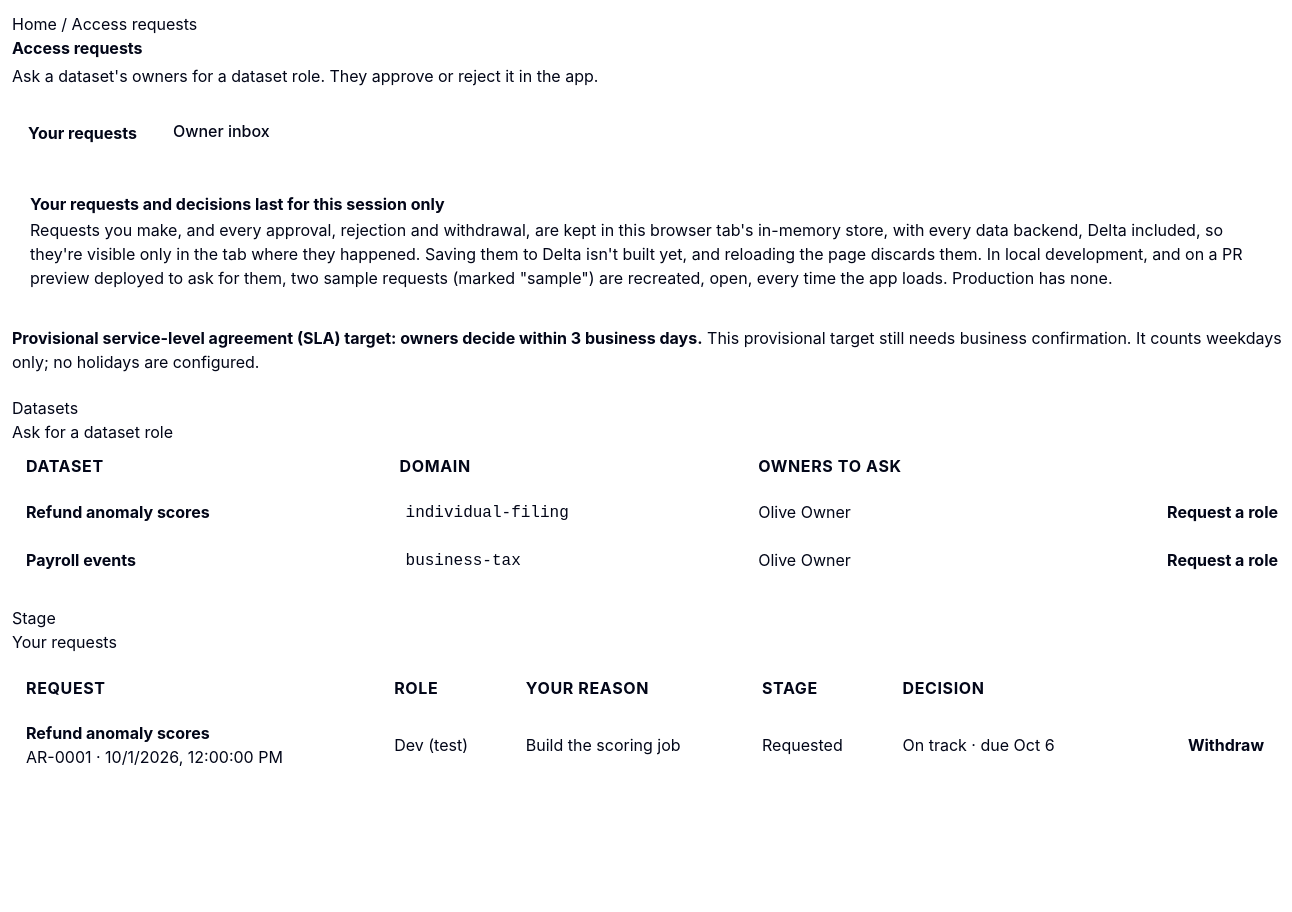
Test: MyAccessRequestsScreen › confirms before withdrawing an open request
Expected: the table named "Your requests" shows "Requested", [762,735,843,755]
Expected: the table named "Your requests" shows "On track · due", [12,666,1291,780]
Click the button with aria-label "Withdraw AR-0001": (1226, 745) [1174,726,1278,764]
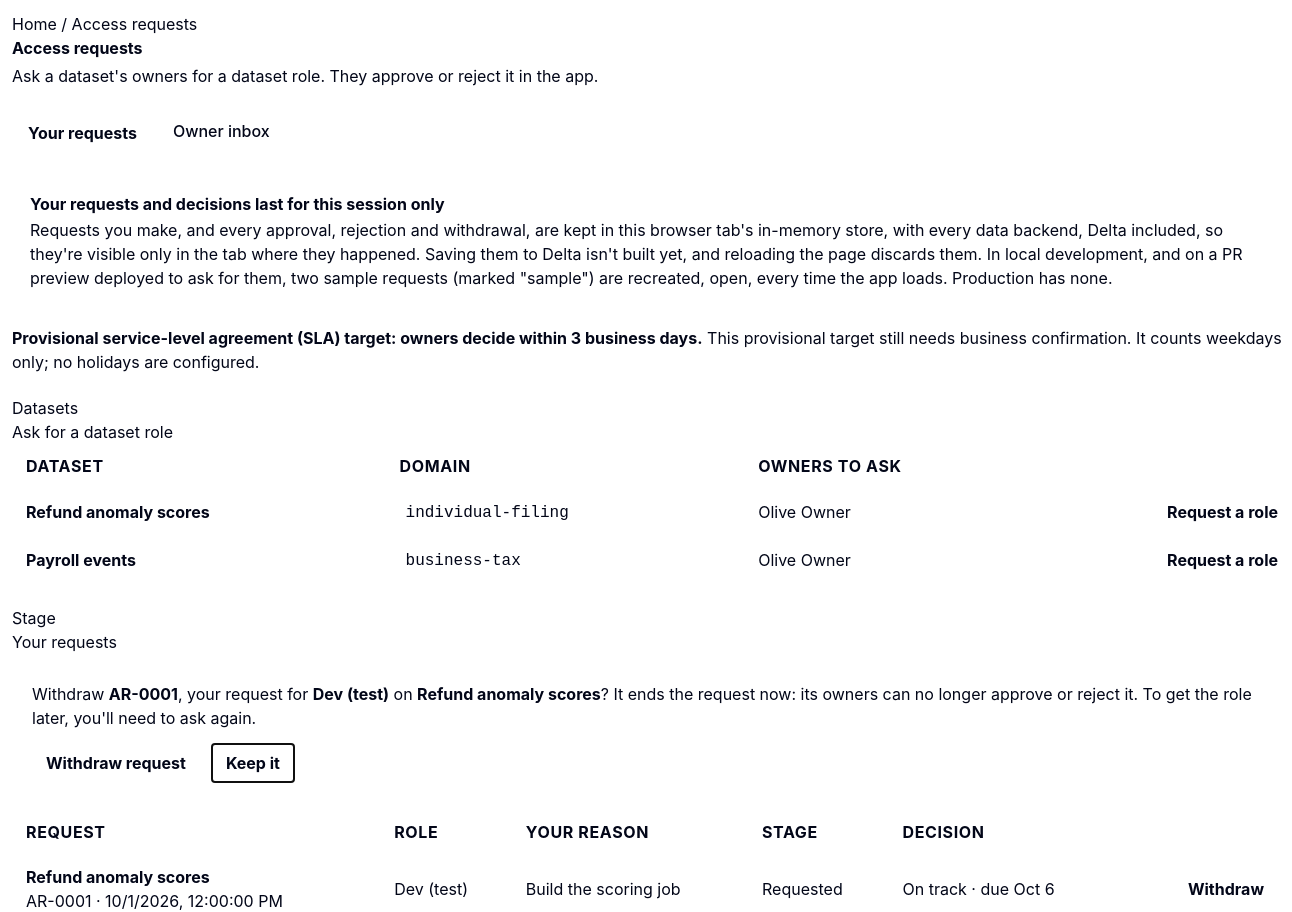
Expected: the table named "Your requests" shows "Requested", [762,879,843,899]
Expected: the element named "Confirm withdrawing AR-0001" shows "owners can no longer approve or reject it", [32,684,1252,728]
Click the button "Withdraw request": (116, 763) [32,744,200,782]
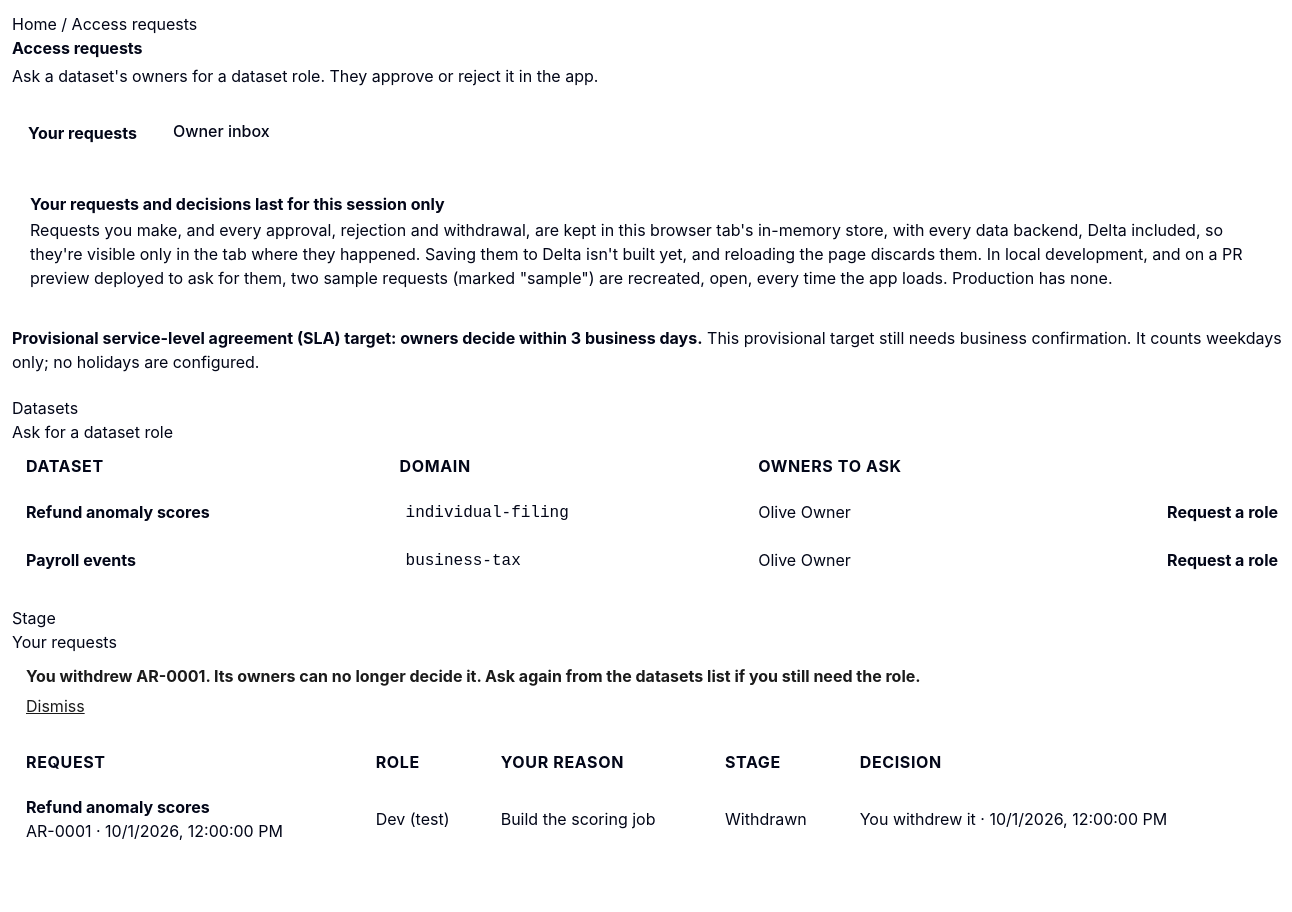
Expected: the text "Withdrawn" is shown, [725,809,807,829]
